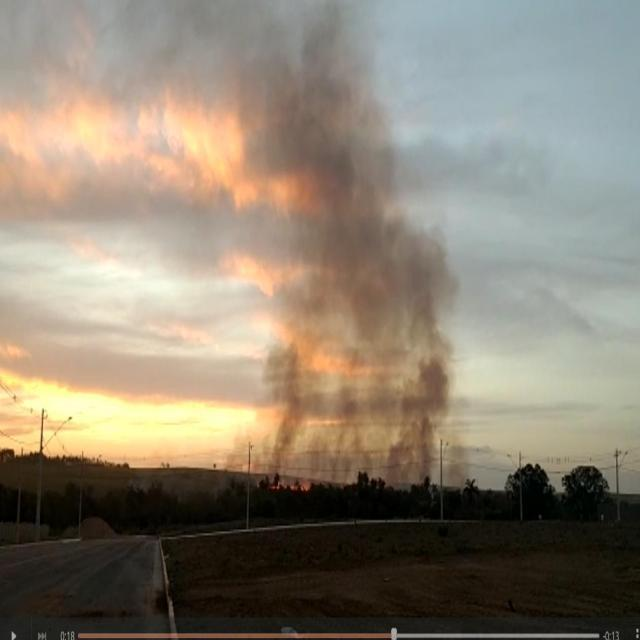Fire: (272, 479, 280, 491), (300, 482, 310, 490), (290, 481, 298, 491)
Smoke: (253, 21, 457, 484)
